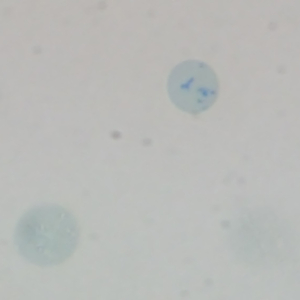aggregate reticulocyte: (165, 58, 222, 116)
erythrocyte: (10, 202, 82, 270)
